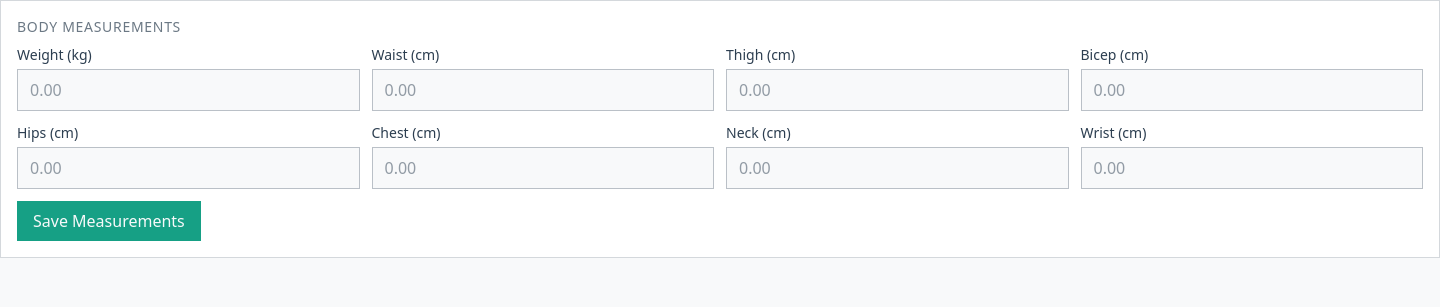
Test: MeasurementLogger › rejects a value with more than 2 decimal places
Type "82.555" into the number field labelled "Weight (kg)" at (188, 90), box 17,69 -> 360,111
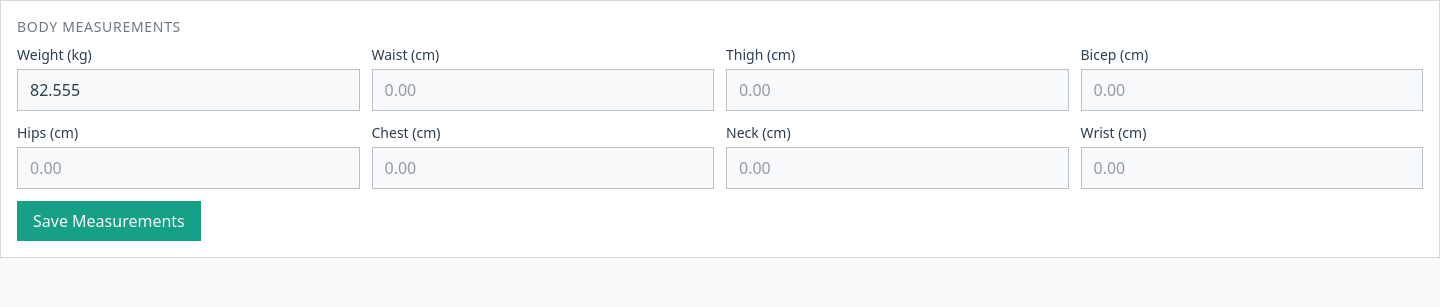
Click the button "Save Measurements" at (109, 221), box 17,201 -> 201,241
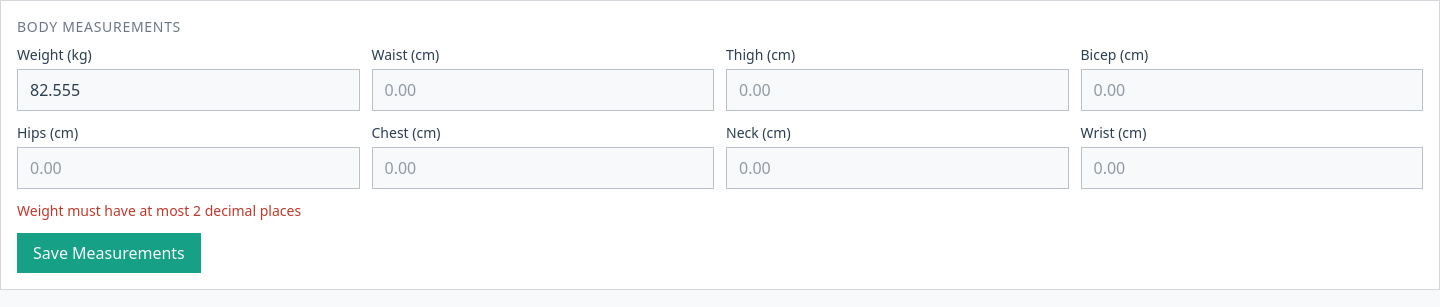
Expected: the message shows "decimal", 17,201 -> 301,220
